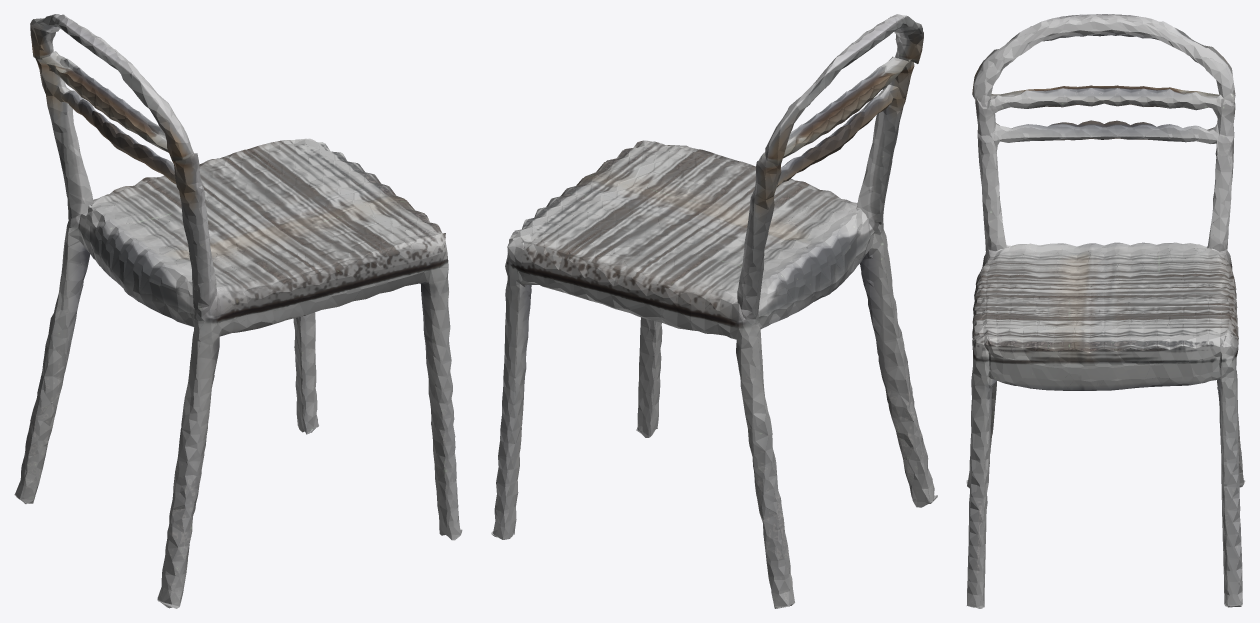
The model's file is elem_115_131_206_213_8_4.obj.
The picture shows the model from 3 angles, left to right: view 1: azimuth 30°, elevation 25°; view 2: azimuth 150°, elevation 25°; view 3: azimuth 270°, elevation 25°; orthographic projection. The views are drawn at different scales.
Size of the model in its own units: 0.436 by 0.7007 by 0.3785.
1 material, 1 textured.
